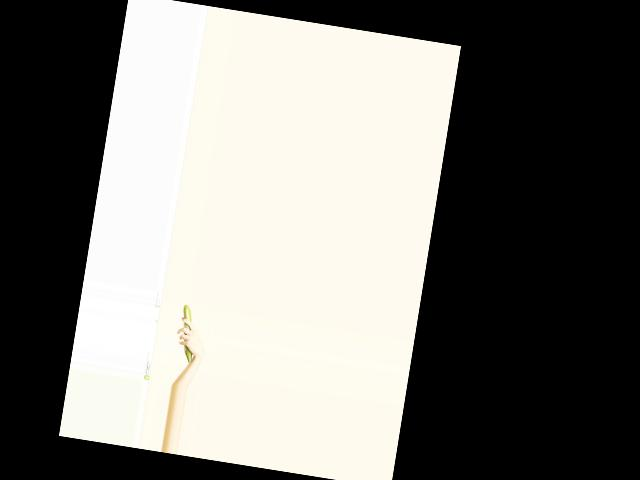cucumber: (174, 304, 199, 363)
